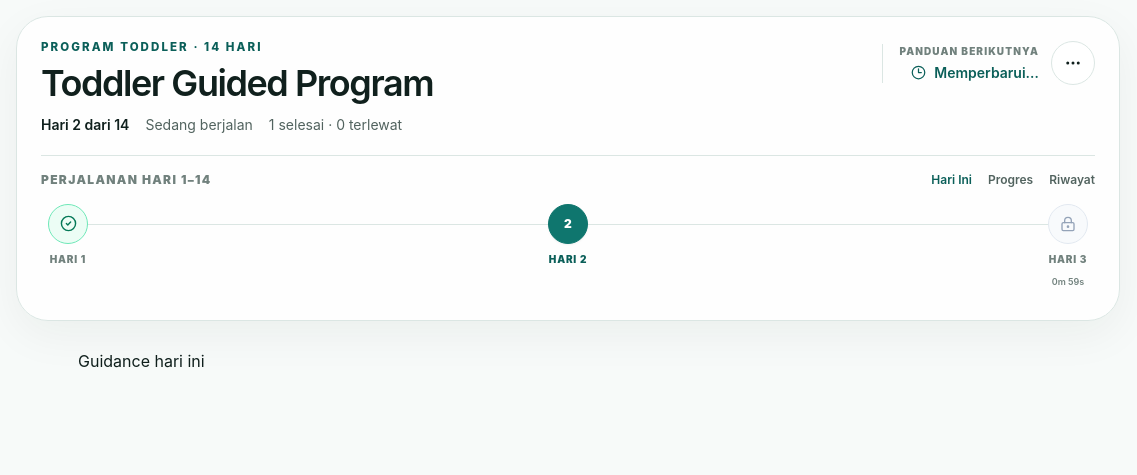
Test: Nutrition Program final shell › uses a local horizontal day timeline and keeps locked days in the workspace
Step 1. Click the link with aria-label "Lihat Hari 3, terkunci" → (1068, 246), box [1045,204,1091,288]
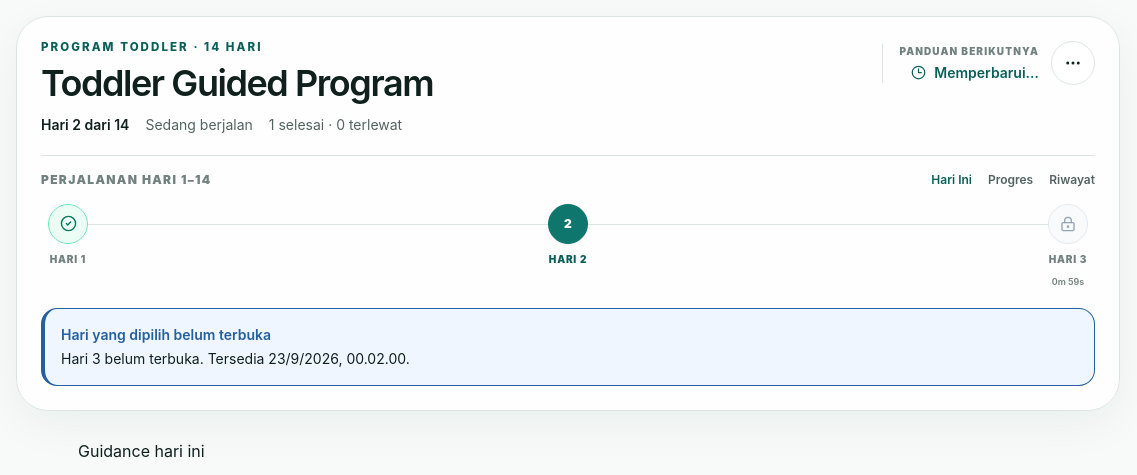
Expected: the text "Hari 3 belum terbuka. Tersedia 23/9/2026, 00.02.00." is shown, [61,350,410,367]
